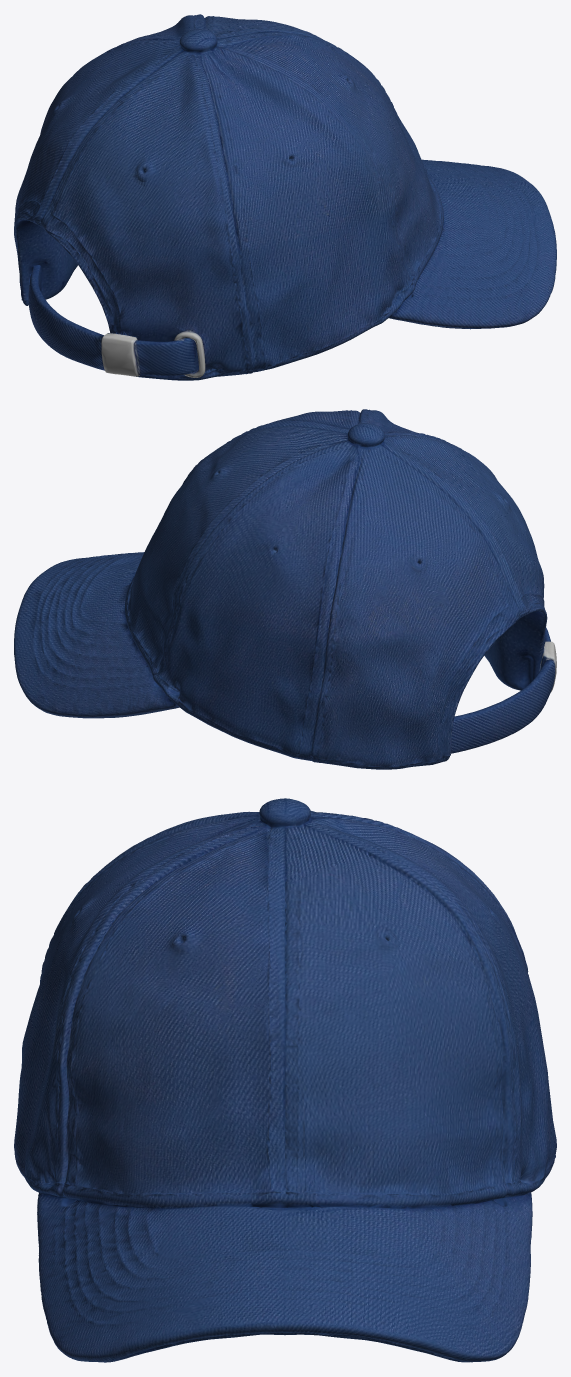
Rendered from GORRA-DE-DRILL.glb.
3 views of the same model, one above another, from view 1: azimuth 30°, elevation 25°; view 2: azimuth 150°, elevation 25°; view 3: azimuth 270°, elevation 25° (orthographic). The views are drawn at different scales.
Visible parts, largest first — view 1: tripo_node_9a533a9c-ab0d-48f5-8c37-8610708eb1b5; view 2: tripo_node_9a533a9c-ab0d-48f5-8c37-8610708eb1b5; view 3: tripo_node_9a533a9c-ab0d-48f5-8c37-8610708eb1b5.
Part boxes in pixels (<box>): tripo_node_9a533a9c-ab0d-48f5-8c37-8610708eb1b5: <box>14,14,556,380</box>; tripo_node_9a533a9c-ab0d-48f5-8c37-8610708eb1b5: <box>14,409,556,769</box>; tripo_node_9a533a9c-ab0d-48f5-8c37-8610708eb1b5: <box>14,798,556,1362</box>.
Size of the model in its own units: 0.9809 by 0.5576 by 0.702.
1 material, 1 textured.
